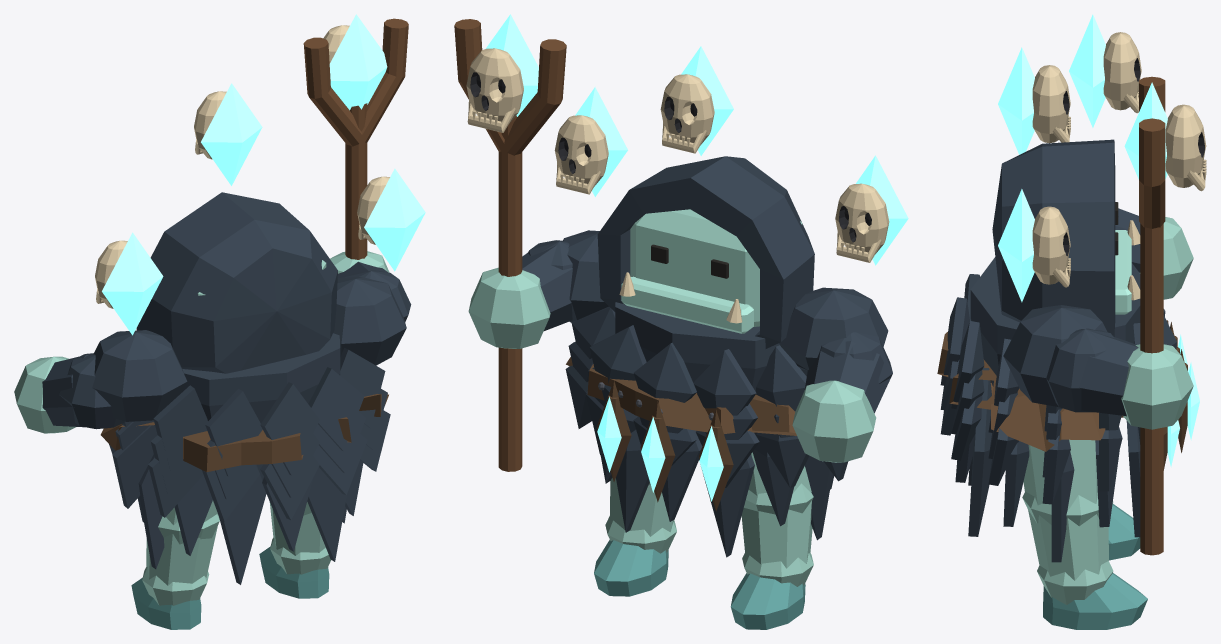
The model's file is host_23.glb.
3 views of the same model, side by side, from view 1: azimuth 30°, elevation 25°; view 2: azimuth 150°, elevation 25°; view 3: azimuth 270°, elevation 25° (orthographic). The views are drawn at different scales.
Parts seen in each view (by area): view 1: V6 source fitted domed cloth hood, Connected shoulder L, Tailored continuous bodice, Connected shoulder R, V6 soul warlock actual broad fitted brown leather waist belt, V6 source held staff genuinely suspended turquoise soul, V6 source genuinely orbiting turquoise soul, V6 source genuinely orbiting turquoise soul.002, V6 source genuinely orbiting turquoise soul.001, V6 source soul fork contacting branch, V6 source genuinely orbiting ivory soul mask actual carved c (×3), V6 source soul fork contacting branch.001 (+33 smaller); view 2: V6 source fitted domed cloth hood, Observed face, V6 source genuinely orbiting ivory soul mask actual carved c (×3), V6 source soul warlock bone fork staff whole continuous held, Tailored continuous bodice, Grasping hand L, Grasping hand R, Connected shoulder L, V6 soul warlock actual broad fitted brown leather waist belt, Orc broad jaw, Lower leg L, V6 soul warlock actual bare cyan contacting foot R (+36 smaller); view 3: V6 source fitted domed cloth hood, V6 source genuinely orbiting ivory soul mask actual carved c (×3), V6 source soul warlock bone fork staff whole continuous held, Connected shoulder R, Grasping hand R, V6 soul warlock actual broad fitted brown leather waist belt, V6 soul warlock actual bare cyan contacting foot R, Tailored continuous bodice, Lower leg R, Forearm R, V6 source soul fork contacting branch.001, Elbow contacting articulated joint R (+30 smaller).
Boxes of the visible parts, x1,y1,x2,y2 form: V6 source fitted domed cloth hood: (136,192,337,373); Connected shoulder L: (92,330,187,421); Tailored continuous bodice: (182,333,340,423); Connected shoulder R: (333,277,406,365); V6 soul warlock actual broad fitted brown leather waist belt: (100,394,388,472); V6 source held staff genuinely suspended turquoise soul: (329,14,387,110); V6 source genuinely orbiting turquoise soul: (201,83,262,185); V6 source genuinely orbiting turquoise soul.002: (102,232,163,335); V6 source genuinely orbiting turquoise soul.001: (364,168,425,271); V6 source soul fork contacting branch: (303,37,364,146); V6 source genuinely orbiting ivory soul mask actual carved c (×3): (95,91,389,308); V6 source soul fork contacting branch.001: (360,18,408,142); V6 source fitted domed cloth hood: (597,156,814,348); Observed face: (630,209,802,326); V6 source genuinely orbiting ivory soul mask actual carved c (×3): (554,74,889,254); V6 source soul warlock bone fork staff whole continuous held: (498,115,522,471); Tailored continuous bodice: (615,302,779,391); Grasping hand L: (792,380,876,462); Grasping hand R: (468,267,550,348); Connected shoulder L: (779,287,888,376); V6 soul warlock actual broad fitted brown leather waist belt: (566,357,796,435); Orc broad jaw: (621,276,753,333); Lower leg L: (741,500,812,568); V6 soul warlock actual bare cyan contacting foot R: (594,540,668,596); V6 source fitted domed cloth hood: (992,139,1115,336); V6 source genuinely orbiting ivory soul mask actual carved c (×3): (1032,32,1141,284); V6 source soul warlock bone fork staff whole continuous held: (1140,223,1163,555); Connected shoulder R: (1003,305,1107,406); Grasping hand R: (1121,344,1193,429); V6 soul warlock actual broad fitted brown leather waist belt: (937,320,1179,451); V6 soul warlock actual bare cyan contacting foot R: (1043,573,1147,629); Tailored continuous bodice: (970,257,1140,386); Lower leg R: (1028,510,1108,580); Forearm R: (1079,331,1138,416); V6 source soul fork contacting branch.001: (1139,118,1165,228); Elbow contacting articulated joint R: (1046,328,1113,412).
Bounding box in the file's own units: 1.26 × 1.63 × 0.6823.
